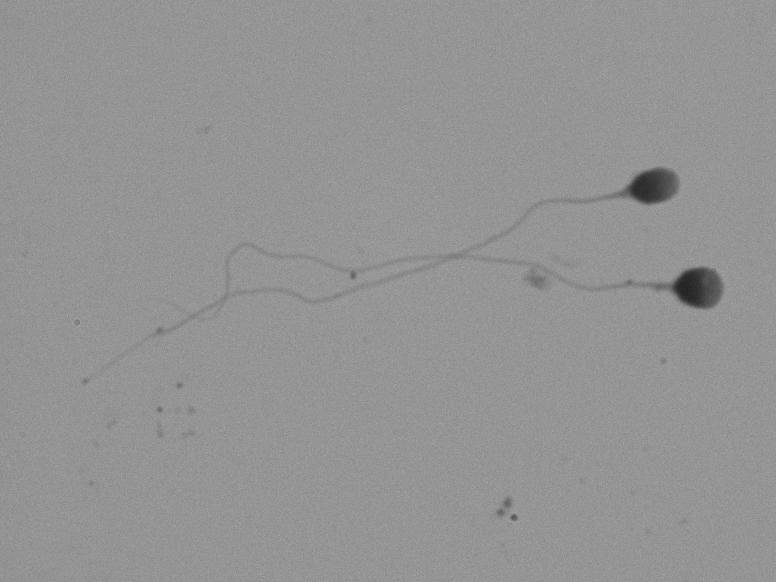Abnormal: (505, 217, 756, 376)
Normal: (149, 124, 694, 264)
